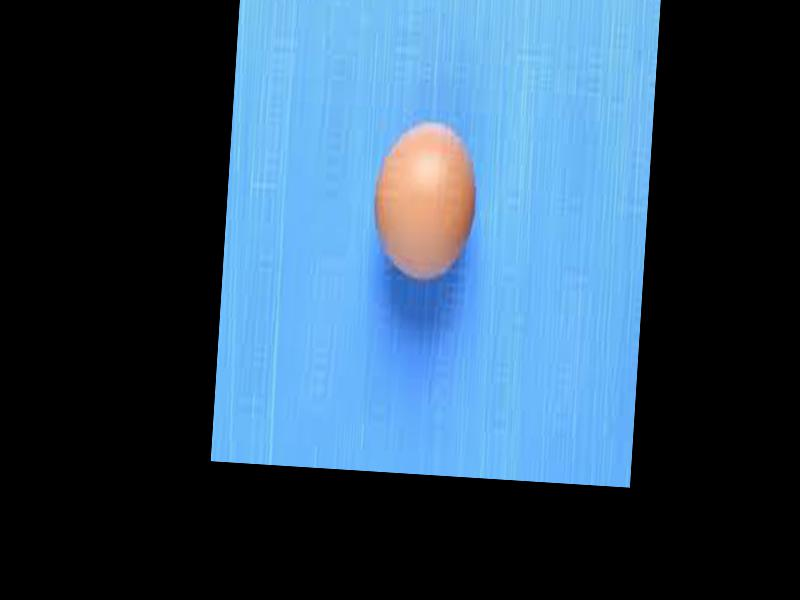Eggs: (370, 116, 479, 287)
